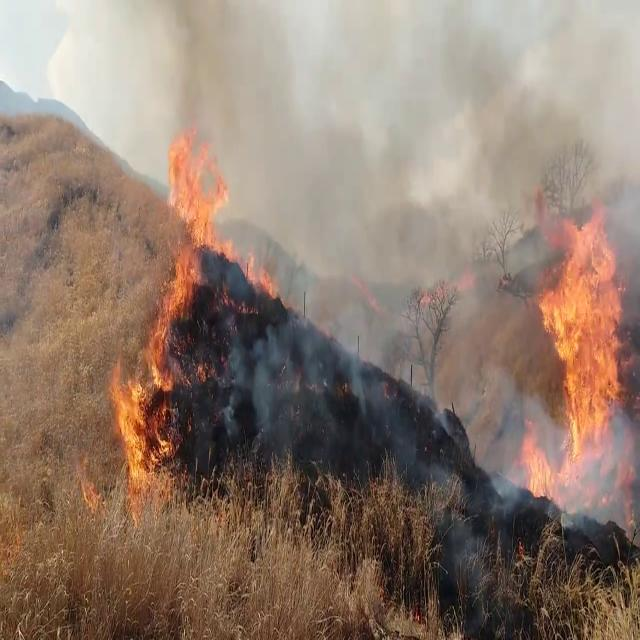Fire: (532, 200, 638, 480), (108, 278, 186, 508), (162, 123, 225, 309), (518, 426, 550, 498)
Smoke: (235, 2, 588, 466)
